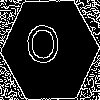O: (25, 25, 61, 73)
